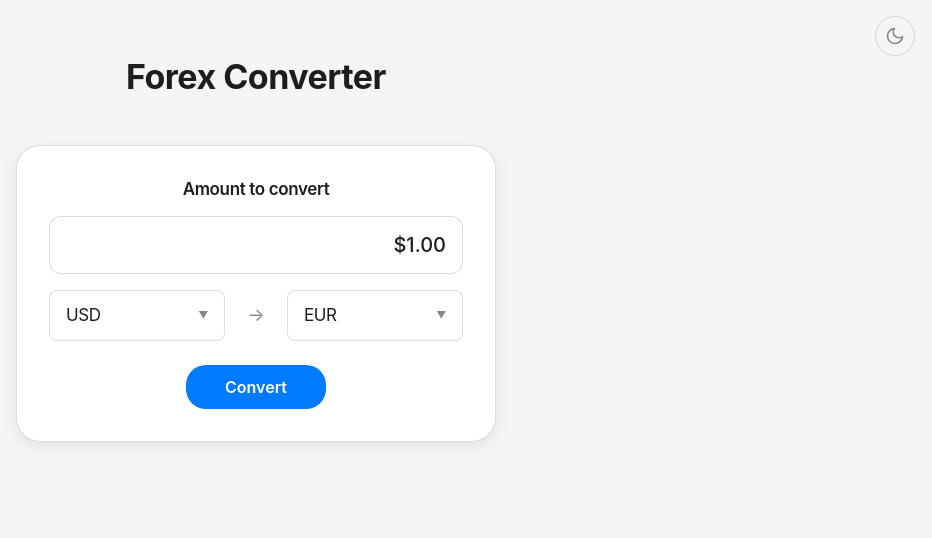
it: App.vue › displays conversion result on successful API response
Replace the text in the field with "100" at (256, 245), box left=49, top=216, right=463, bottom=274
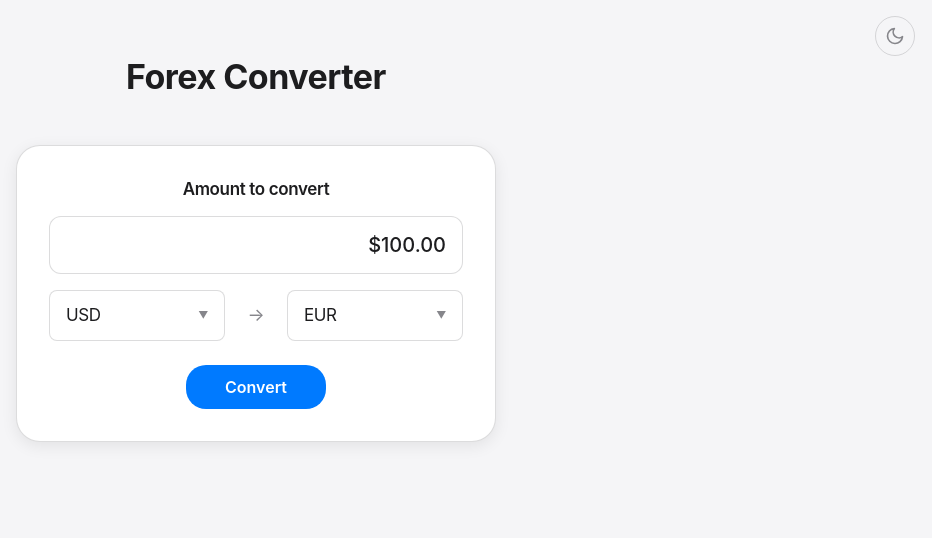
Click the button with class "convert-button".
click(256, 387)  # box left=186, top=365, right=326, bottom=409
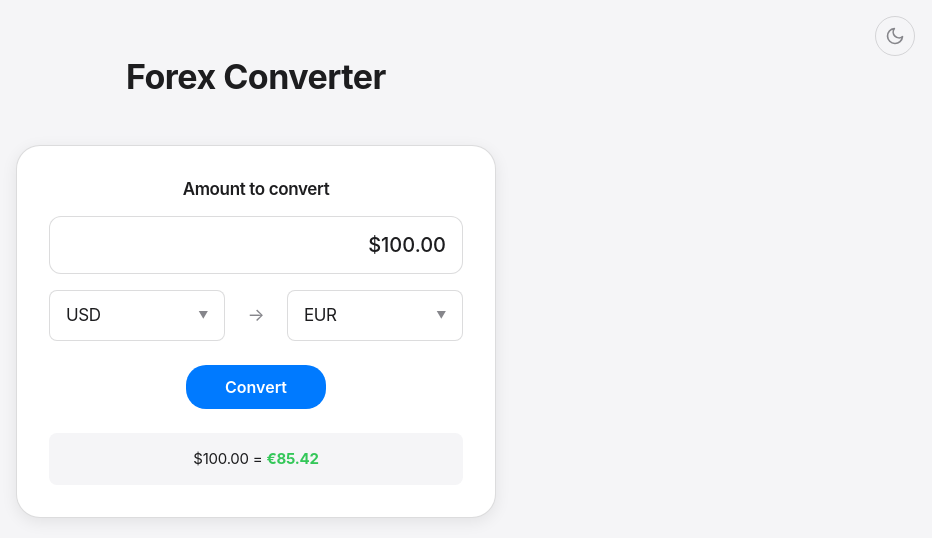
Result: the text "85.42" is shown at left=266, top=449, right=319, bottom=468
